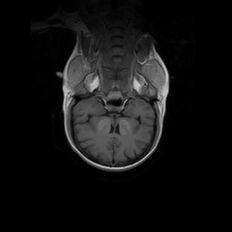Normal_Brain: (1, 1, 216, 232)
